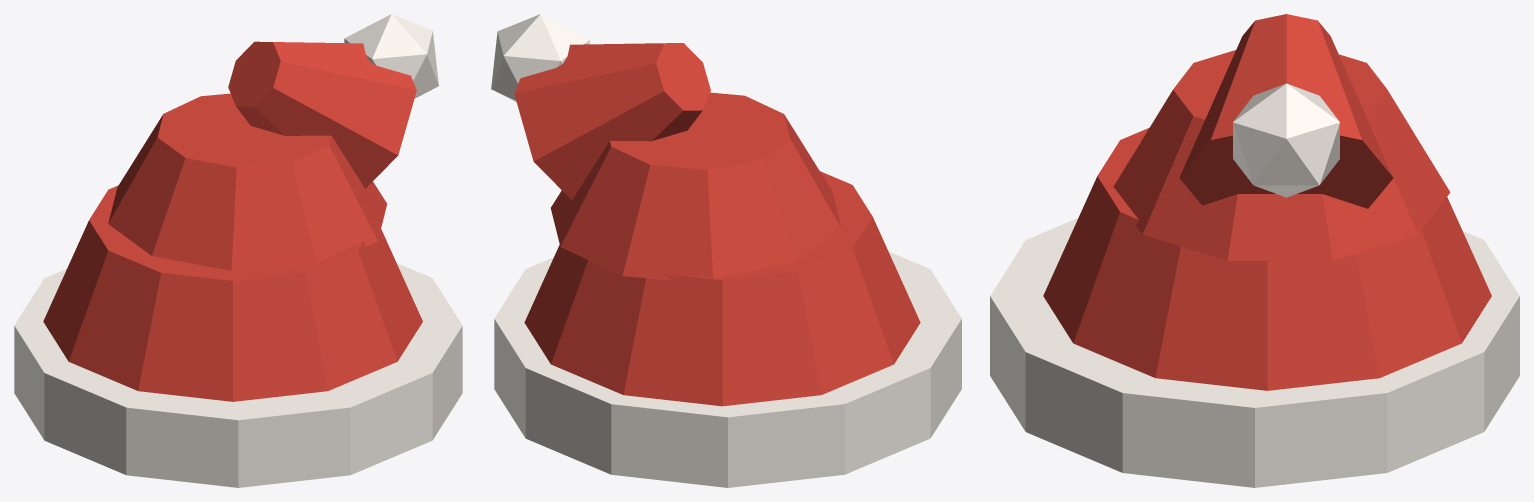
The model's file is CatCafe_Accessory_SantaHat.glb.
The picture shows the model from 3 angles, left to right: view 1: azimuth 30°, elevation 25°; view 2: azimuth 150°, elevation 25°; view 3: azimuth 270°, elevation 25°; orthographic projection. The views are drawn at different scales.
Visible parts, largest first — view 1: CatCafe_Accessory_SantaHat; view 2: CatCafe_Accessory_SantaHat; view 3: CatCafe_Accessory_SantaHat.
Boxes of the visible parts, x1,y1,x2,y2 form: CatCafe_Accessory_SantaHat: [14, 14, 462, 487]; CatCafe_Accessory_SantaHat: [491, 14, 961, 487]; CatCafe_Accessory_SantaHat: [990, 14, 1519, 487].
Bounding box in the file's own units: 0.8694 × 0.6819 × 0.84.
Materials: 1 (1 with a texture image).
